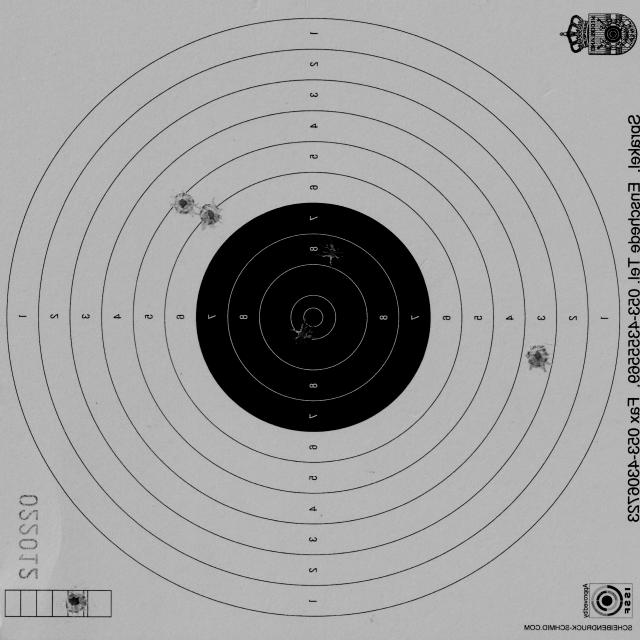0: (62, 590, 87, 614)
10: (292, 324, 314, 343)
3: (525, 342, 554, 372)
5: (170, 191, 196, 217)
6: (197, 199, 223, 230)
8: (317, 240, 341, 267)
Target: (3, 14, 624, 620)
black_contour: (196, 202, 432, 432)
